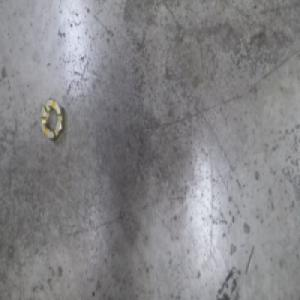Nut: (38, 95, 66, 143)
